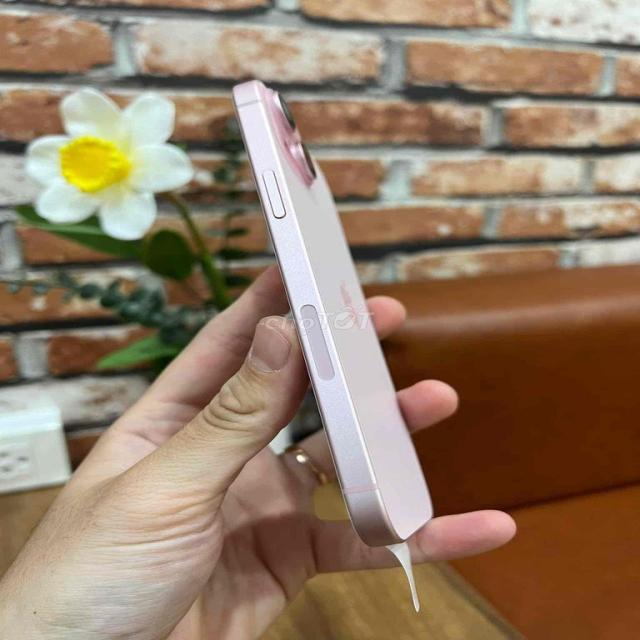gen_12_13: (212, 79, 452, 547)
